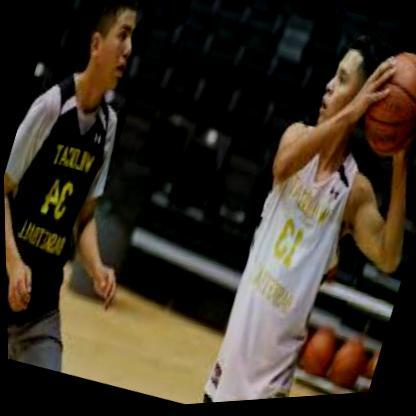basketball: (350, 47, 416, 174)
